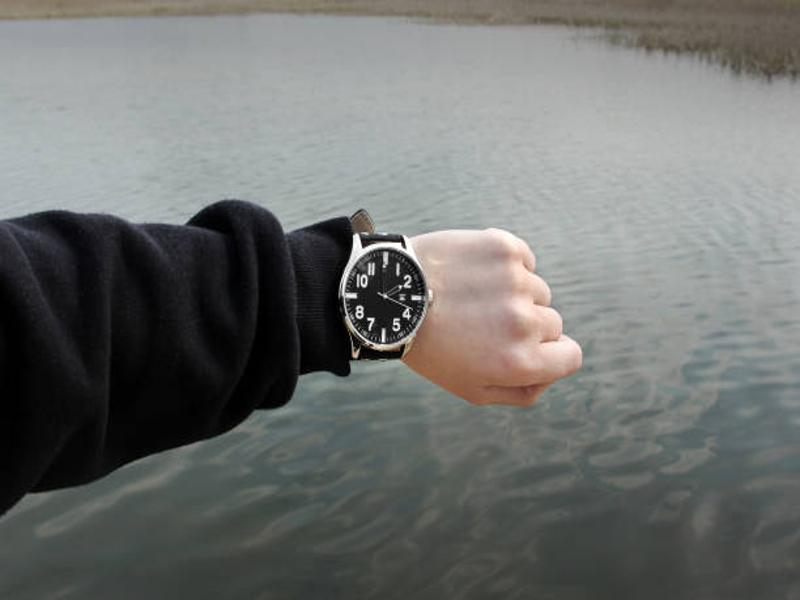watch: (332, 207, 435, 362)
